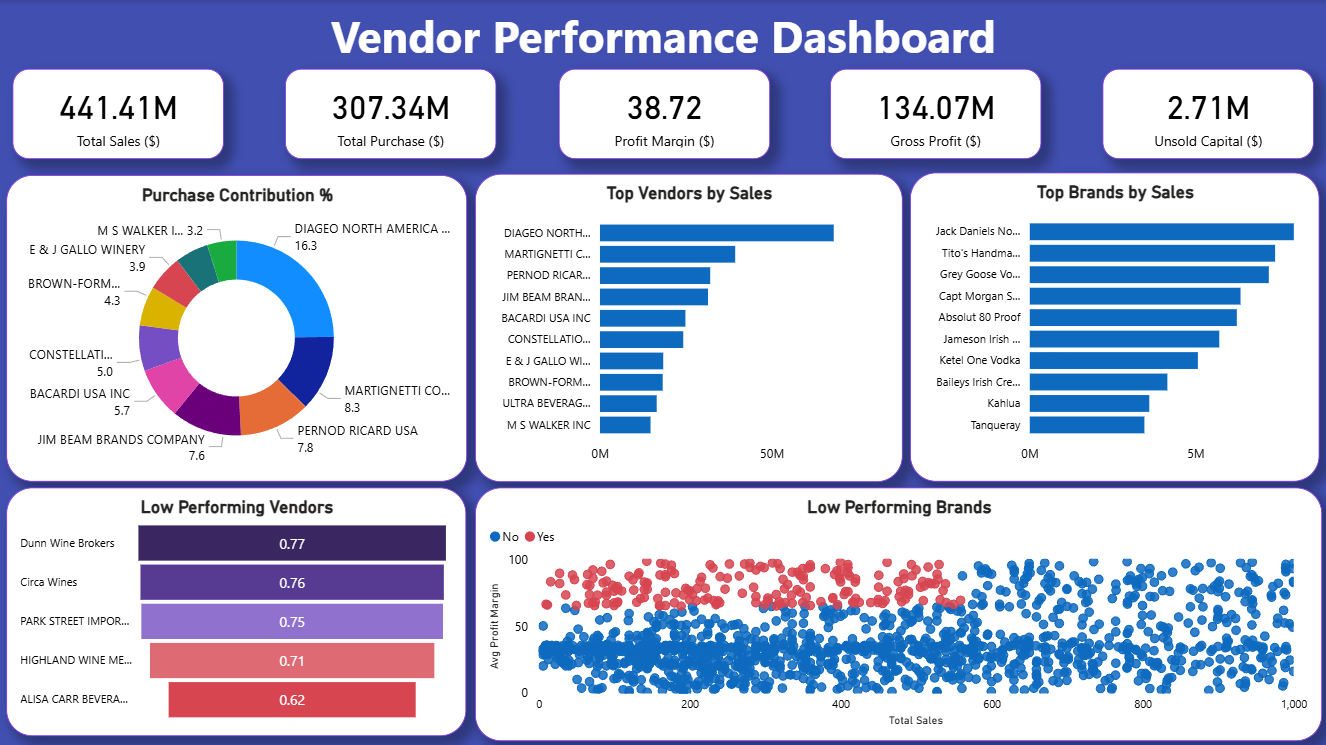

This screenshot's page, from the dashboard's own definition file:
{"tool":"powerbi","page":{"name":"Vendor Performance","canvas":[1280,720],"ordinal":0},"visuals":[{"type":"card","fields":{"Values":["vendor_sales_summary.TotalSalesDollars"]},"box":[12.5,66.6,203.8,87.5],"z":0},{"type":"card","fields":{"Values":["vendor_sales_summary.TotalPurchaseDollars"]},"box":[275,66.6,203.8,87.5],"z":1000},{"type":"card","fields":{"Values":["vendor_sales_summary.GrossProfit"]},"box":[801.2,66.6,203.8,87.5],"z":2000},{"type":"card","fields":{"Values":["vendor_sales_summary.ProfitMargin"]},"box":[538.8,66.6,203.8,87.5],"z":3000},{"type":"card","fields":{"Values":["vendor_sales_summary.UnsoldCapital"]},"box":[1063.8,66.6,203.8,87.5],"z":4000},{"type":"donutChart","title":"Purchase Contribution %","fields":{"Category":["PurchaseContribution.VendorName"],"Y":["PurchaseContribution.PurchaseContribution%"]},"box":[6.2,168.8,445,296.2],"z":5000},{"type":"clusteredBarChart","title":"Top Vendors by Sales","fields":{"Category":["vendor_sales_summary.VendorName"],"Y":["vendor_sales_summary.TotalSalesDollars"]},"box":[458.8,167.5,412.5,297.5],"z":6000},{"type":"clusteredBarChart","title":"Top Brands by Sales","fields":{"Category":["vendor_sales_summary.Description"],"Y":["vendor_sales_summary.TotalSalesDollars"]},"box":[878.8,166.2,395,298.8],"z":7000},{"type":"funnel","title":"Low Performing Vendors","fields":{"Category":["LowTurnoverVendor.VendorName"],"Y":["LowTurnoverVendor.AvgStockTurnOver"]},"box":[6.2,470,443.8,240],"z":8000},{"type":"scatterChart","title":"Low Performing Brands","fields":{"Category":["BrandPerformance.Description"],"X":["BrandPerformance.TotalSales"],"Series":["BrandPerformance.TargetBrand"],"Y":["BrandPerformance.AvgProfitMargin"]},"box":[458.8,470,817.5,245],"z":9000},{"type":"textbox","box":[165,0,950,75],"z":10000}]}

Visuals, with their boxes in screenshot pixels (x1, y1, x2, y2), scaled from the page's 1280x720 canvas onto the 1326x745 screenshot:
card - vendor_sales_summary.TotalSalesDollars: 13, 69, 224, 159
card - vendor_sales_summary.TotalPurchaseDollars: 285, 69, 496, 159
card - vendor_sales_summary.GrossProfit: 830, 69, 1041, 159
card - vendor_sales_summary.ProfitMargin: 558, 69, 769, 159
card - vendor_sales_summary.UnsoldCapital: 1102, 69, 1313, 159
"Purchase Contribution %" donutChart: 6, 175, 467, 481
"Top Vendors by Sales" clusteredBarChart: 475, 173, 903, 481
"Top Brands by Sales" clusteredBarChart: 910, 172, 1320, 481
"Low Performing Vendors" funnel: 6, 486, 466, 735
"Low Performing Brands" scatterChart: 475, 486, 1322, 740
textbox: 171, 0, 1155, 78
